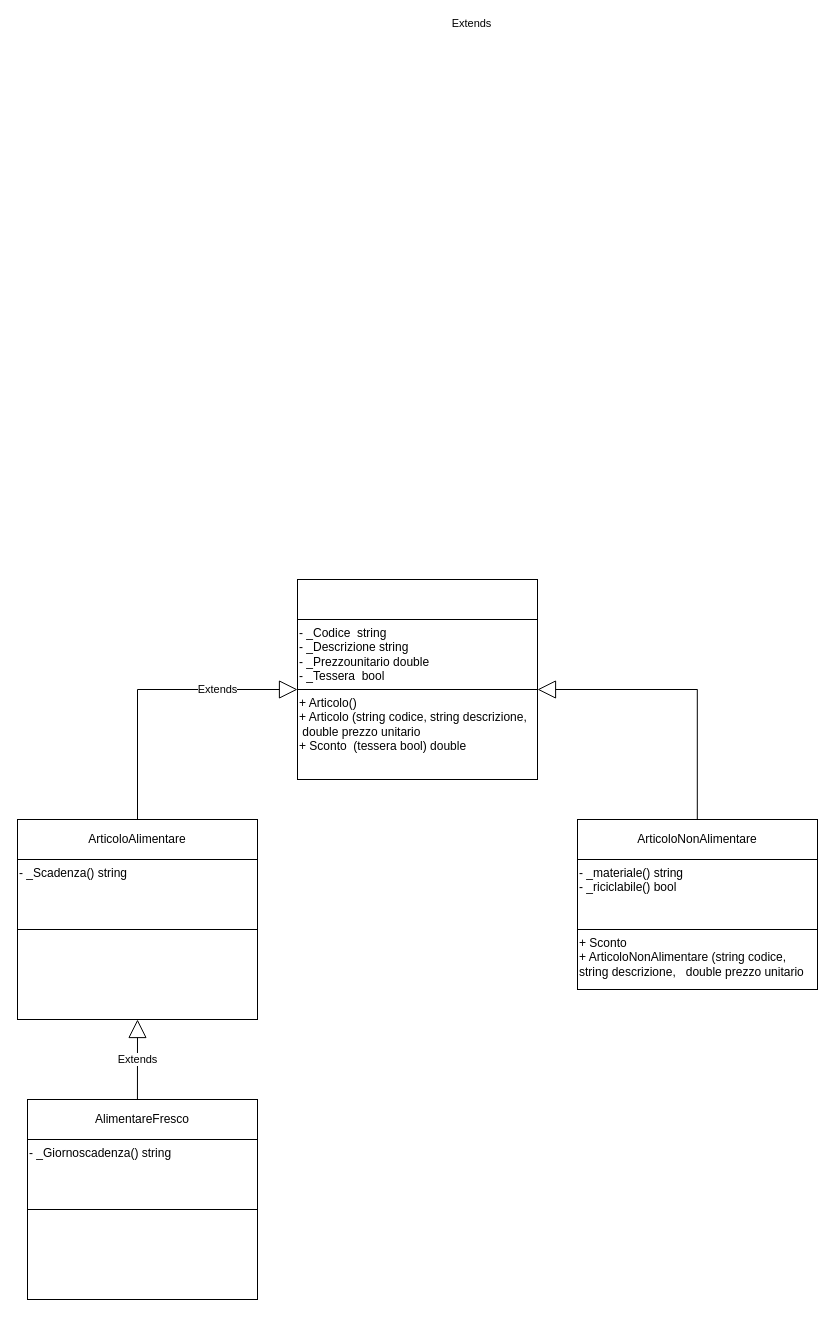
The diagram is 835 pixels wide and 1317 high, and some of its shapes have lost their labels. Here are the shapes that lost their labels. From the top down, the centre of each, then its label:
At [417,599]: "Articolo".
At [137,974]: "+ ScontoScadenza() void sconto".
At [142,1254]: "+ ScontoGiornoScadenza() void sconto".
